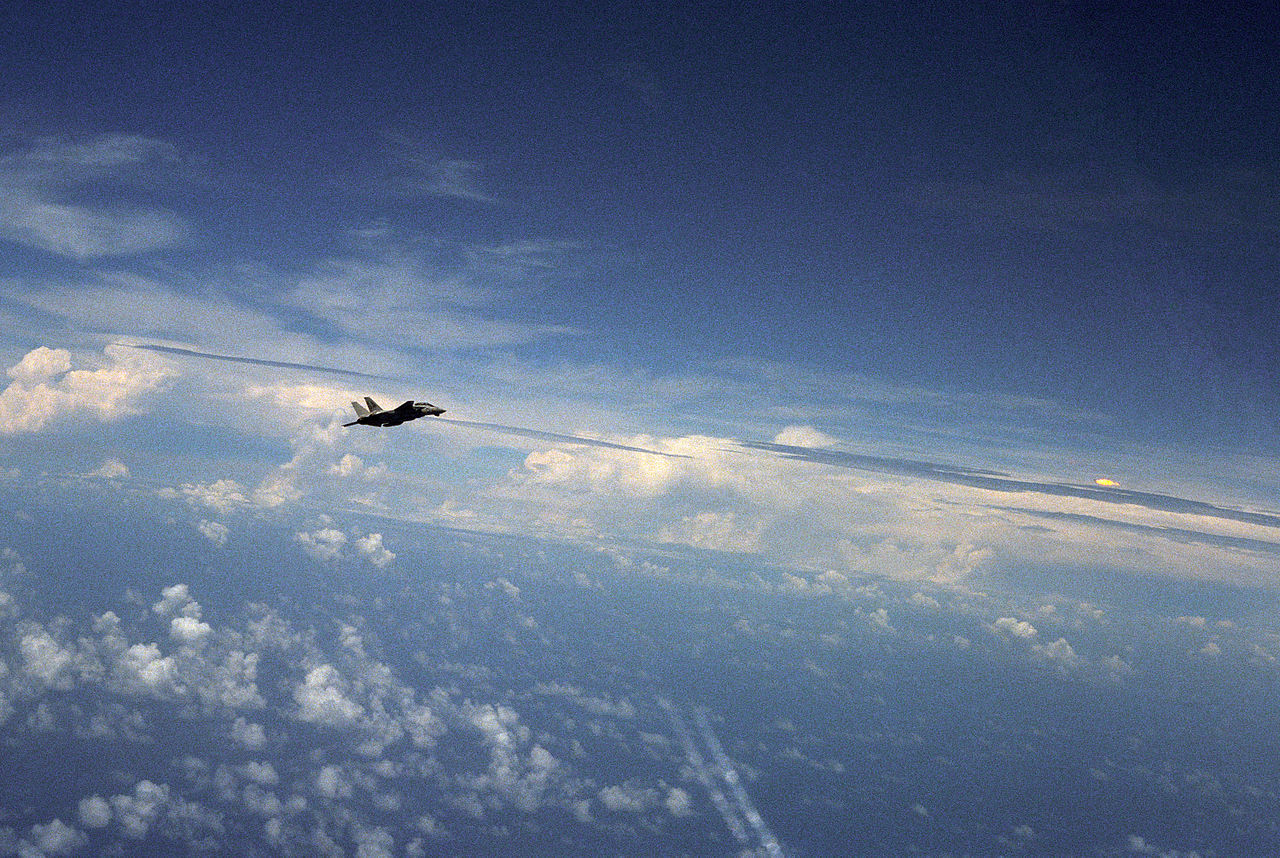F14: (340, 396, 447, 428)
